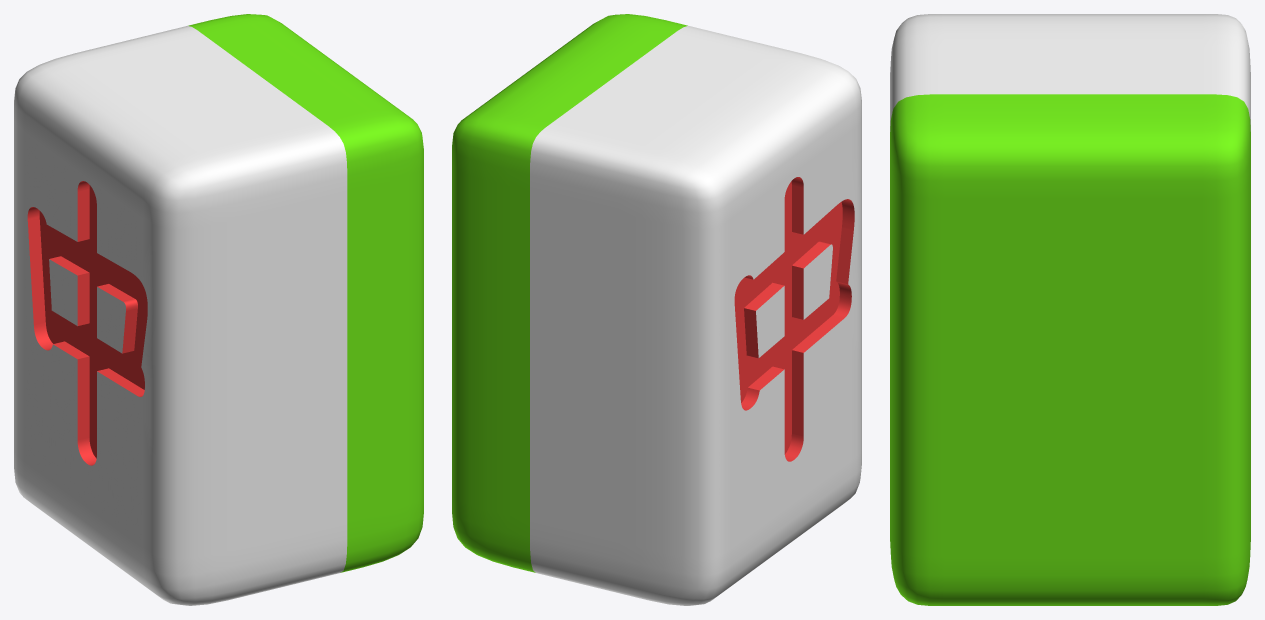
3 renders of one model, left to right at view 1: azimuth 30°, elevation 25°; view 2: azimuth 150°, elevation 25°; view 3: azimuth 270°, elevation 25°, orthographic. The views are drawn at different scales.
Parts seen in each view (by area): view 1: Boole; view 2: Boole; view 3: Boole.
Boxes of the visible parts, <box> form: Boole: <box>14,14,423,605</box>; Boole: <box>452,14,861,605</box>; Boole: <box>890,14,1250,605</box>.
Bounding box in the file's own units: 2.91 × 4.57 × 3.11.
